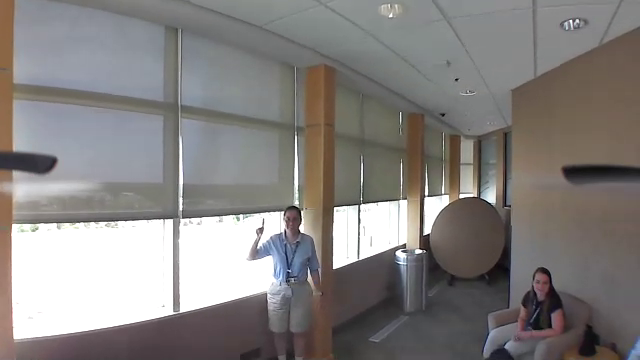up: (254, 217, 269, 239)
